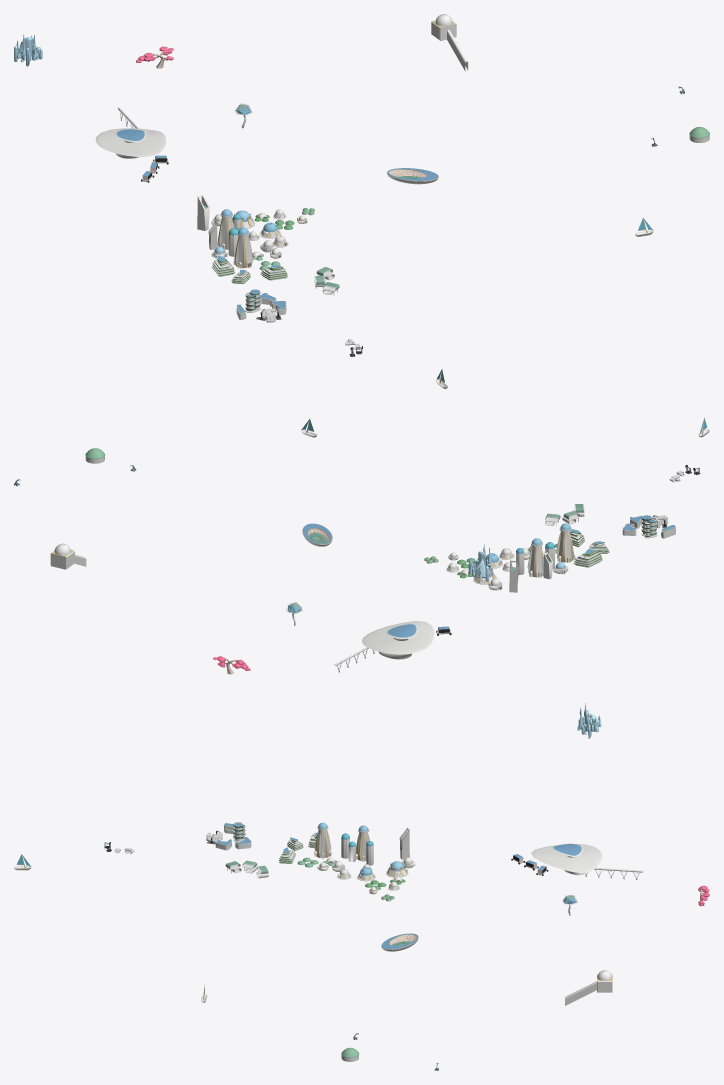
File: map_A.glb
3 views of the same model, one above another, from view 1: azimuth 30°, elevation 25°; view 2: azimuth 150°, elevation 25°; view 3: azimuth 270°, elevation 25° (orthographic). The views are drawn at different scales.
Visible parts, largest first — view 1: Boole.002, Boole.006, Boole_2.002, C_Building-001.002, Boole, Boole.001, Boole_2.001; view 2: Boole.002, Boole.006, Boole_2.002, C_Building-001.002, Boole, Boole.001, Boole_2.001, C_Building.004; view 3: Boole.002, Boole.006, Boole_2.002, Boole.
Part boxes in pixels (<box>): Boole.002: <box>211,208,314,269</box>; Boole.006: <box>95,107,166,158</box>; Boole_2.002: <box>197,194,241,256</box>; C_Building-001.002: <box>212,255,287,283</box>; Boole: <box>431,14,468,71</box>; Boole.001: <box>387,168,438,184</box>; Boole_2.001: <box>14,34,42,66</box>; Boole.002: <box>424,523,575,590</box>; Boole.006: <box>334,621,434,672</box>; Boole_2.002: <box>509,542,554,592</box>; C_Building-001.002: <box>570,529,609,567</box>; Boole: <box>50,543,86,569</box>; Boole.001: <box>302,523,332,546</box>; Boole_2.001: <box>468,544,491,581</box>; C_Building.004: <box>545,504,584,525</box>; Boole.002: <box>297,822,415,901</box>; Boole.006: <box>531,843,642,879</box>; Boole_2.002: <box>341,828,409,865</box>; Boole: <box>565,970,612,1005</box>.
Size of the model in its own units: 188 by 43.91 by 222.
1 material, 1 textured.
